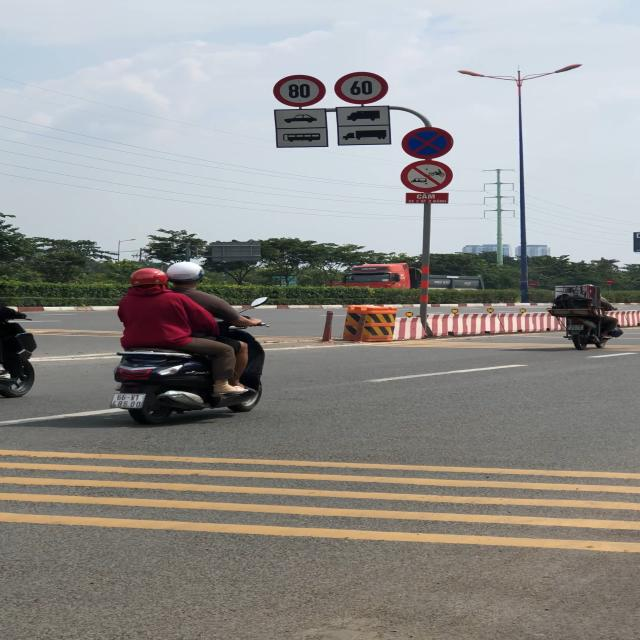Bien bao cam dung xe va do xe: (401, 126, 455, 159)
Bien bao toc do toi da cho phep: (272, 74, 329, 108), (334, 70, 389, 105)
